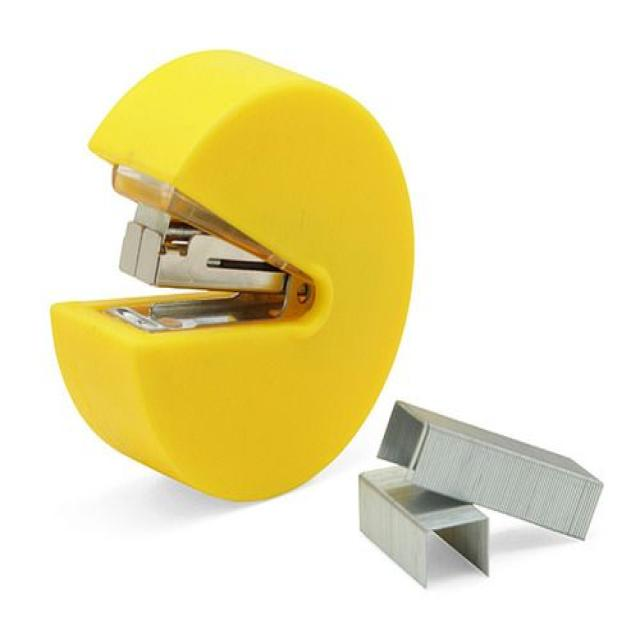Stapler: (0, 33, 413, 506)
